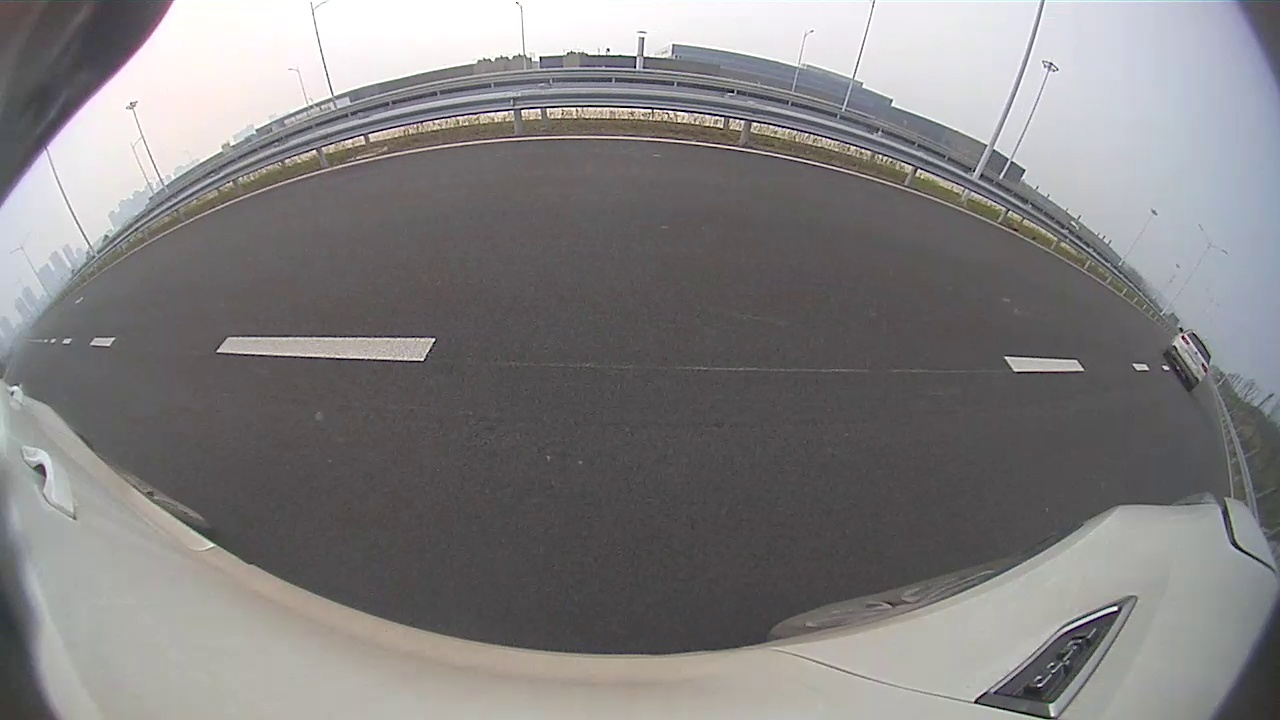car: (1165, 327, 1211, 392)
